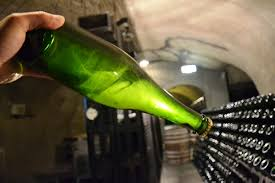beer: (19, 17, 213, 139)
